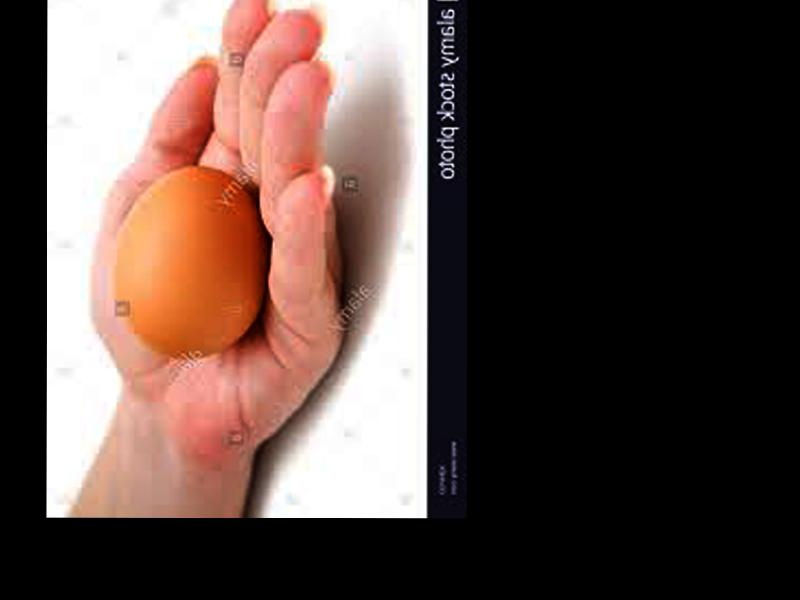Eggs: (110, 167, 266, 360)
